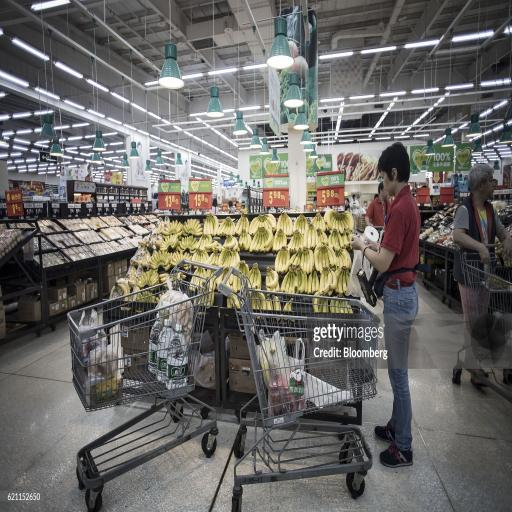shopping_cart: (217, 265, 380, 512), (66, 256, 223, 512), (452, 242, 512, 404)
